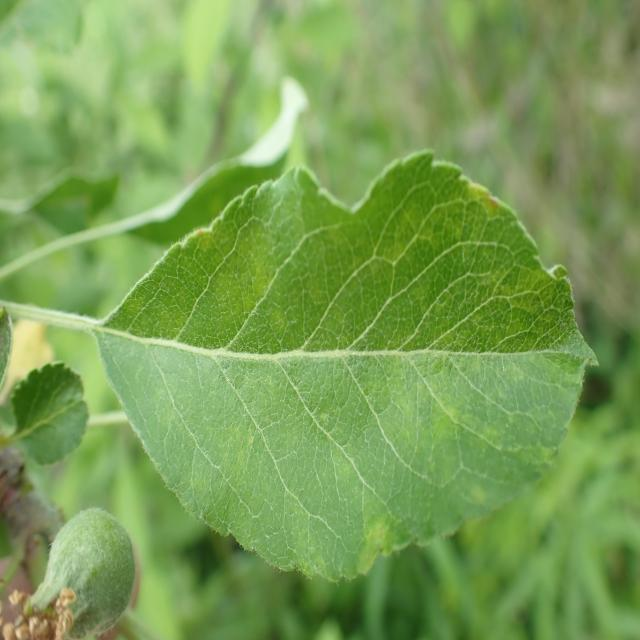scab: (130, 190, 572, 544)
